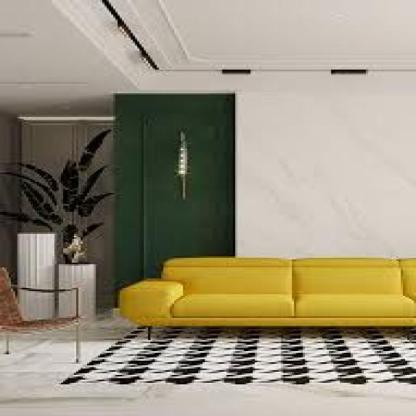Sofa: (114, 241, 416, 347)
